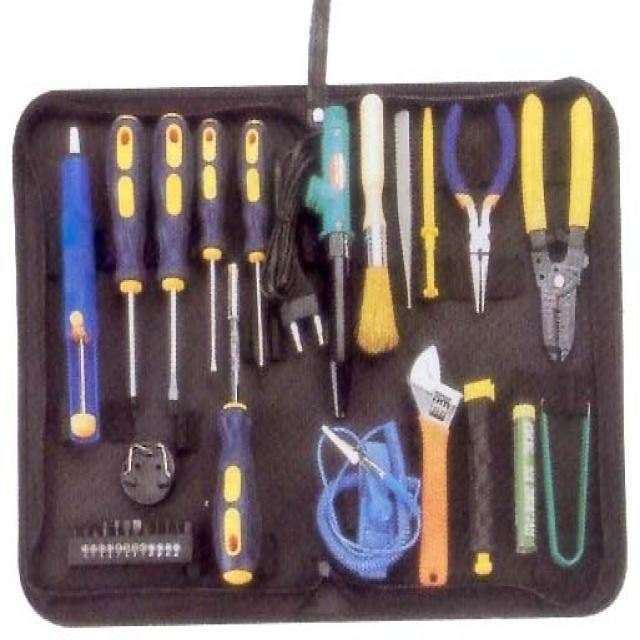pliers: (511, 87, 602, 369), (440, 92, 520, 317)
screwdriver: (208, 259, 263, 592), (101, 110, 154, 412), (147, 108, 195, 416), (195, 116, 232, 374), (244, 117, 271, 373)
wrench: (405, 337, 461, 590)
